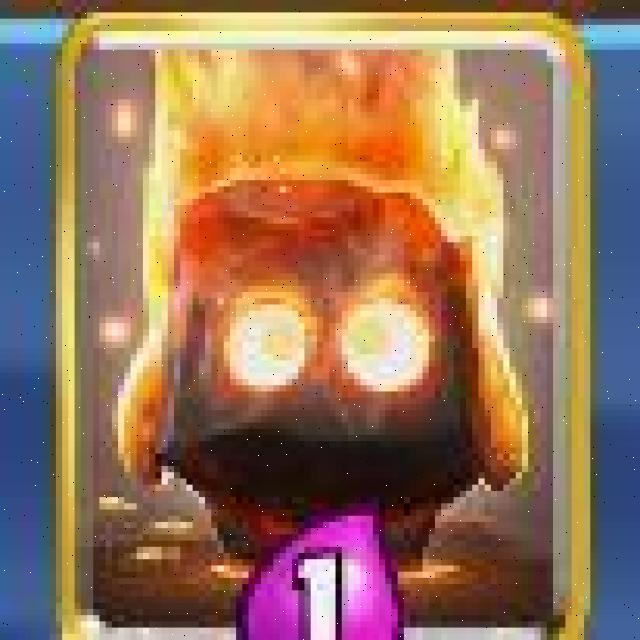Fire_Spirit: (52, 13, 581, 640)
